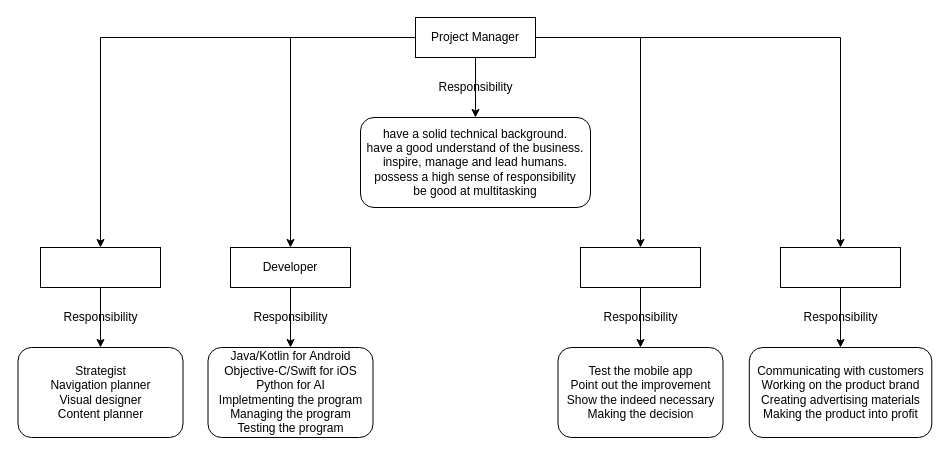
This 949x455 diagram has some shape labels left out. The shapes that lost their labels are listed below. From the top down, each one's centre as x and y in pixels, then its label:
point 100,267: Designer
point 640,267: Quality Assurance Specialist
point 840,267: Sales and Marketing Specialist
